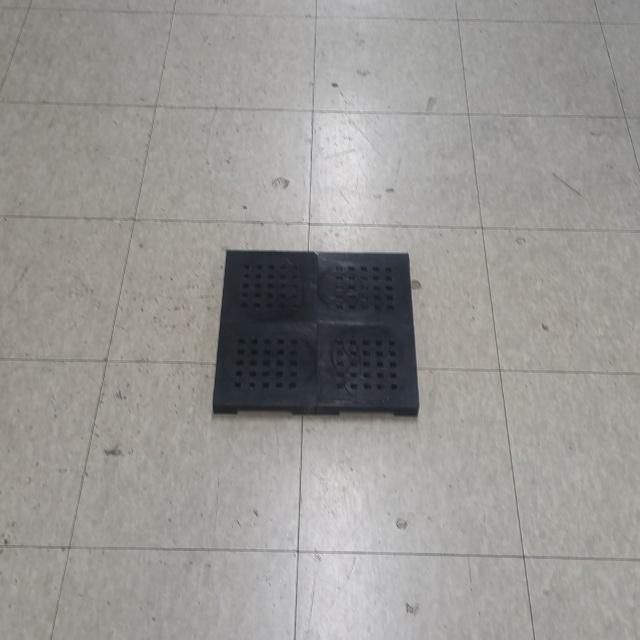pallet: (208, 246, 428, 424)
